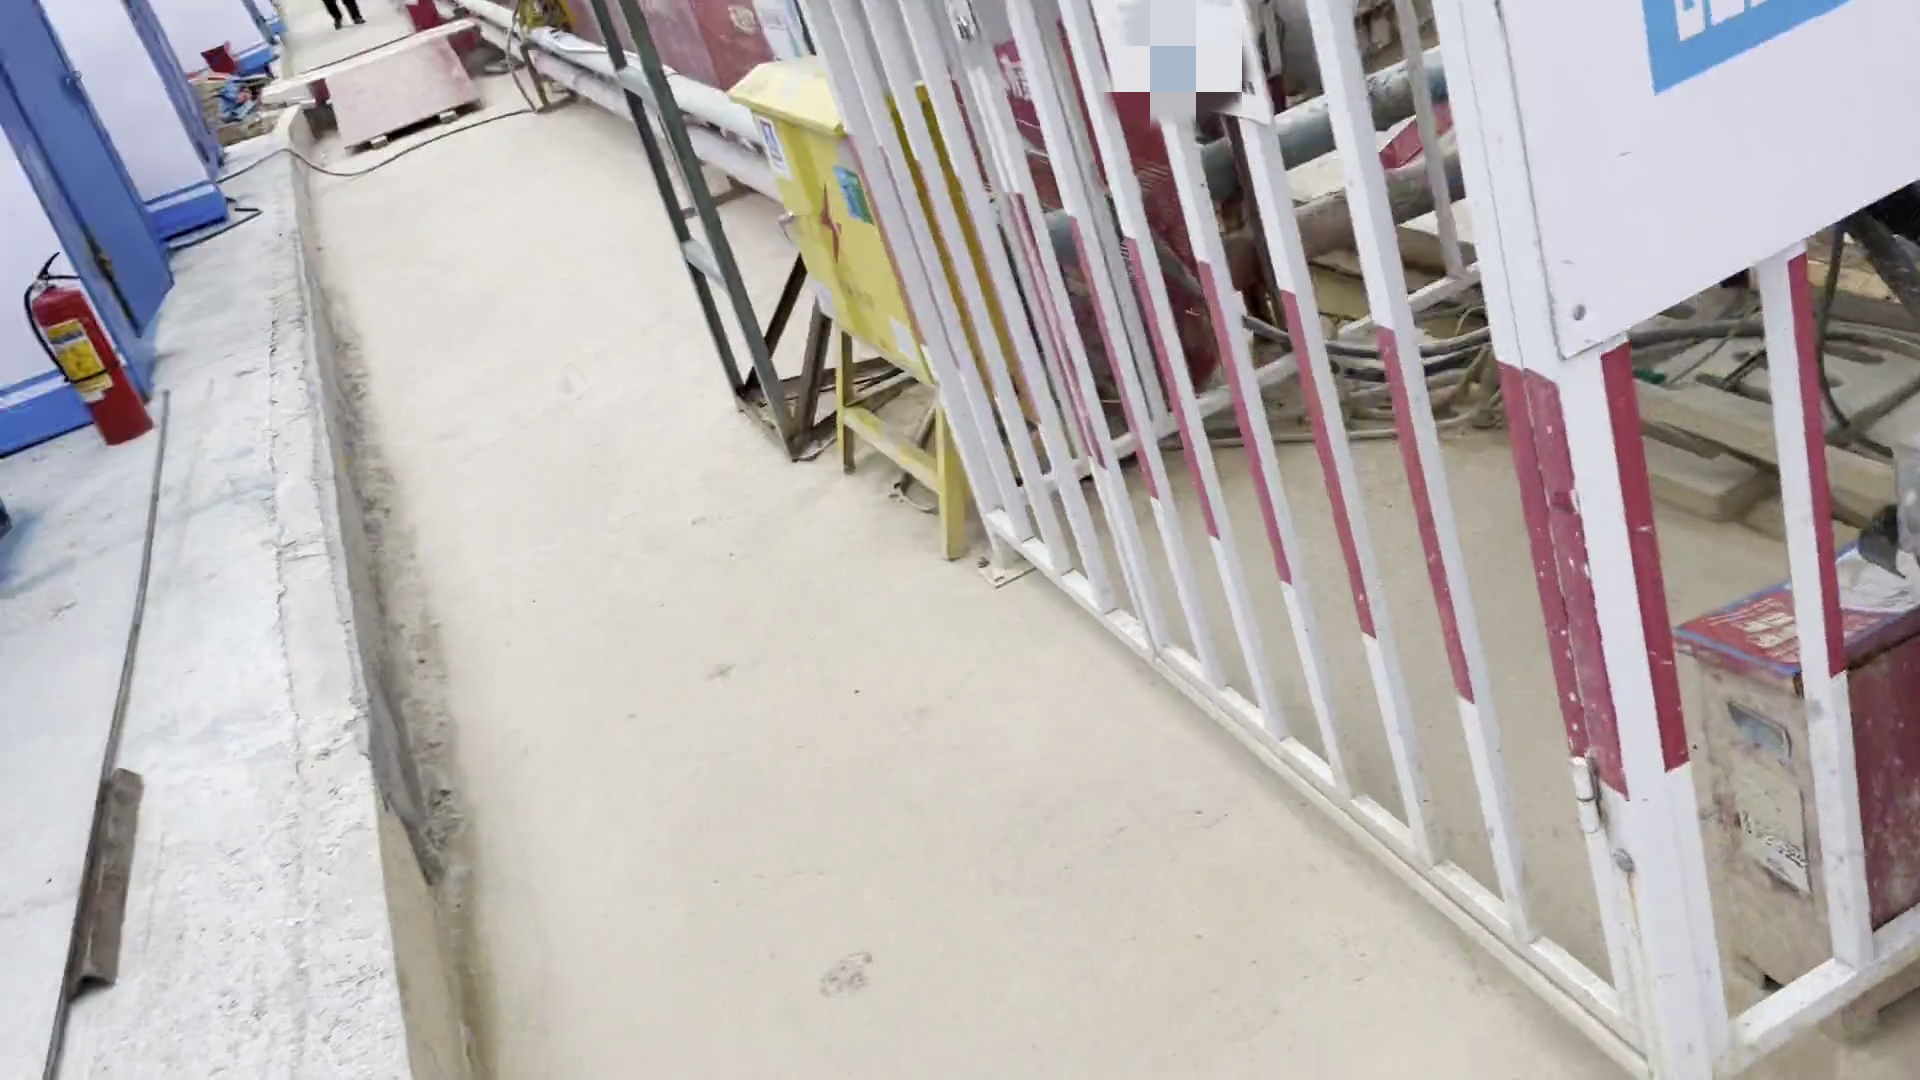ebox: (735, 37, 1031, 562)
slogan: (1495, 1, 1920, 332), (30, 319, 117, 409)
